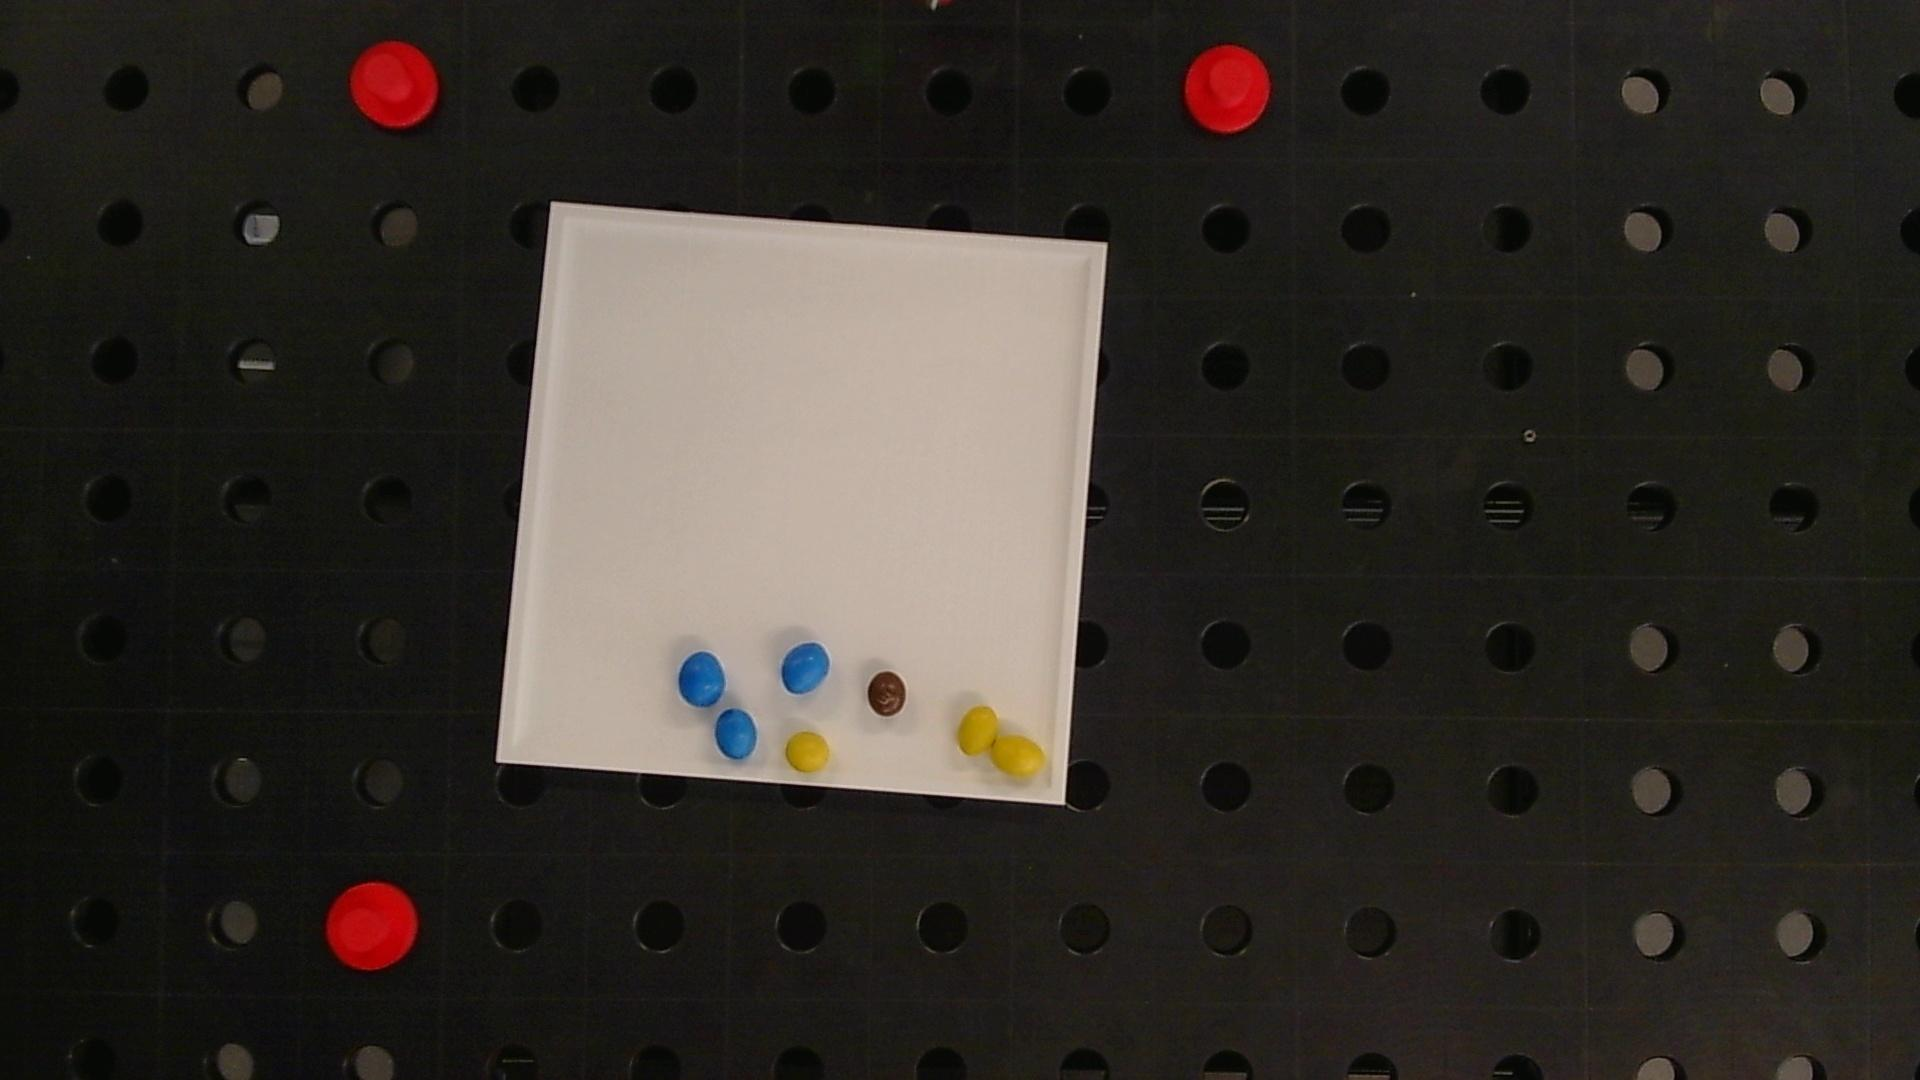blue: (679, 651, 725, 708), (783, 644, 828, 694), (715, 709, 756, 760)
brown: (868, 671, 907, 717)
yellow: (992, 733, 1047, 777), (959, 707, 1001, 754), (786, 733, 831, 773)
